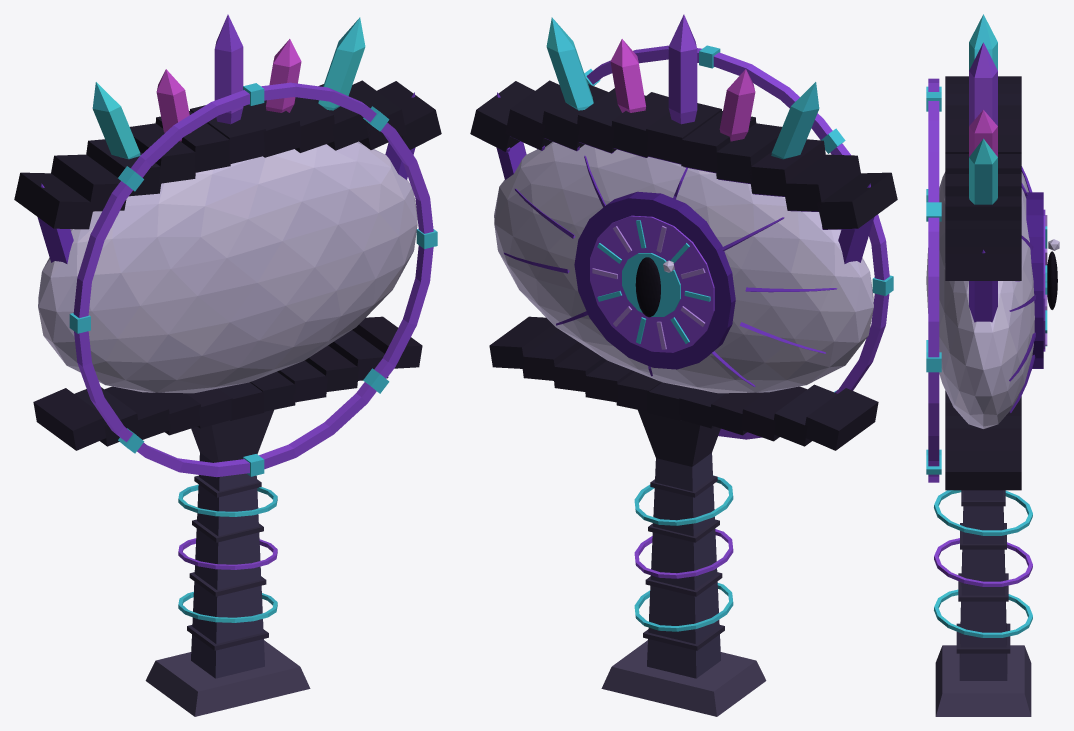
Rendered from Decor_VoidPortal_VoidEye.fbx.
The picture shows the model from 3 angles, left to right: view 1: azimuth 30°, elevation 25°; view 2: azimuth 150°, elevation 25°; view 3: azimuth 270°, elevation 25°; orthographic projection. The views are drawn at different scales.
Visible parts, largest first — view 1: VoidEye_Body; view 2: VoidEye_Body; view 3: VoidEye_Body.
Boxes of the visible parts, left/top/right/bottom form: VoidEye_Body: left=14, top=14, right=441, bottom=716; VoidEye_Body: left=470, top=14, right=897, bottom=716; VoidEye_Body: left=926, top=14, right=1059, bottom=716.
Size of the model in its own units: 46 by 76 by 14.2.
